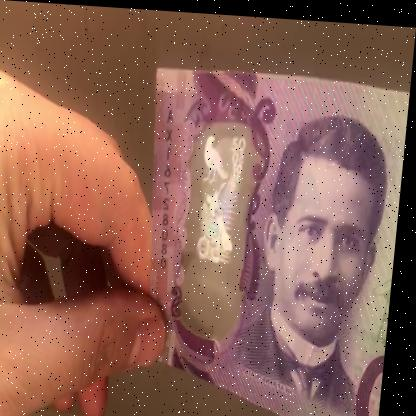50F: (188, 123, 255, 320)
